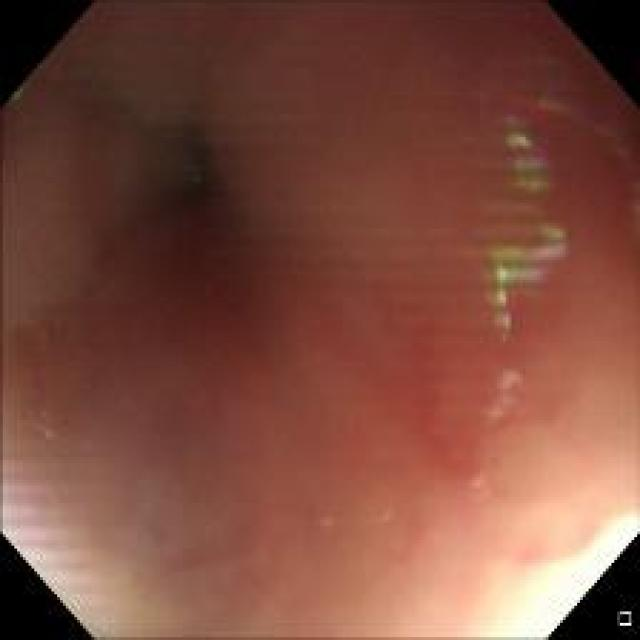color misalignment: (484, 109, 572, 345), (488, 365, 516, 419)
saturation: (491, 511, 636, 638), (2, 499, 72, 595)
